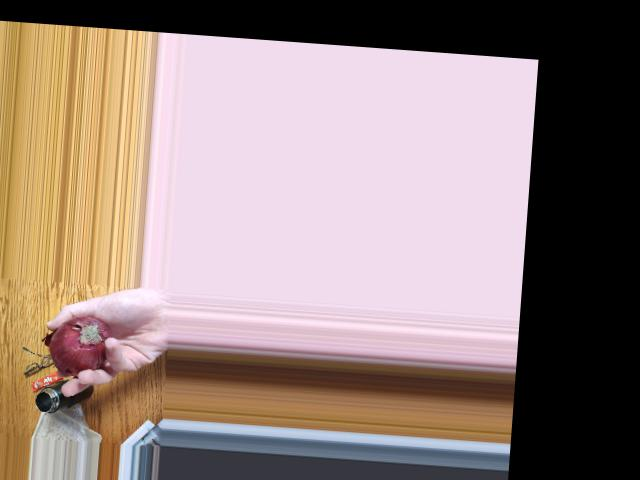onion: (48, 315, 104, 375)
